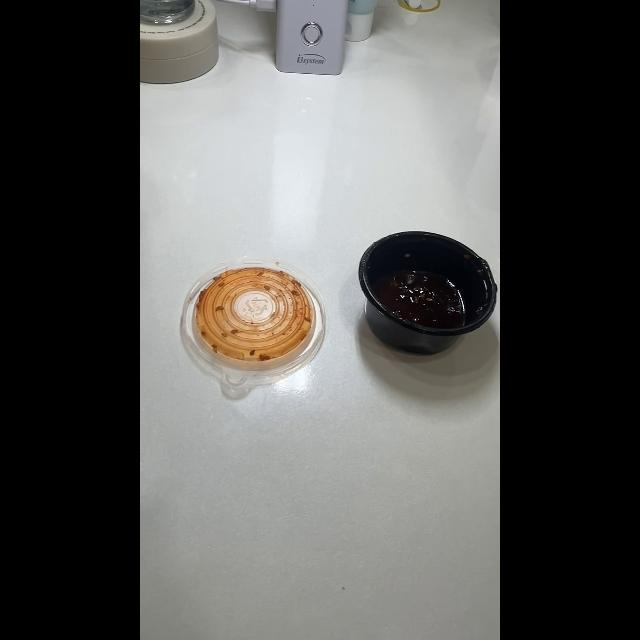dirty: (184, 266, 330, 384), (357, 241, 498, 347)
